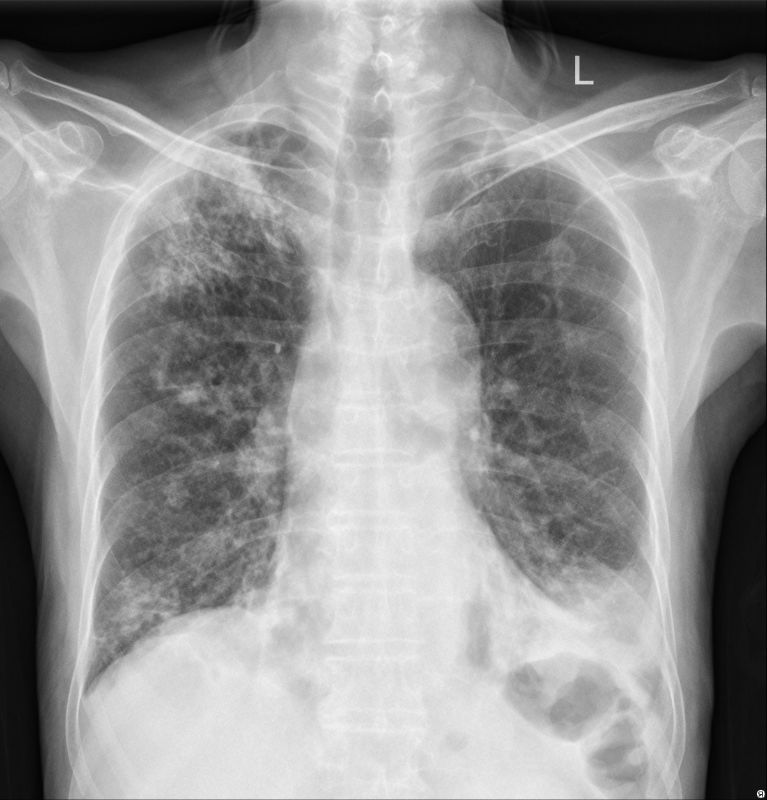Tuberculosis (TB): (145, 153, 293, 306), (512, 218, 594, 364), (154, 358, 212, 508), (110, 570, 171, 622)
